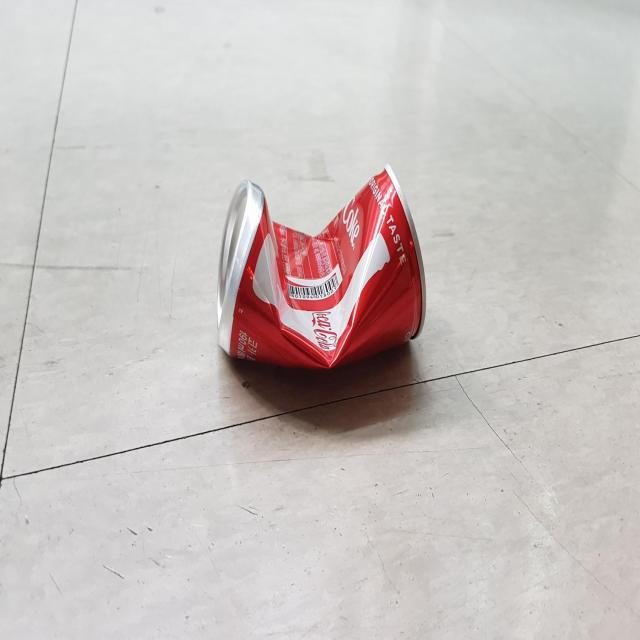can: (217, 164, 426, 368)
